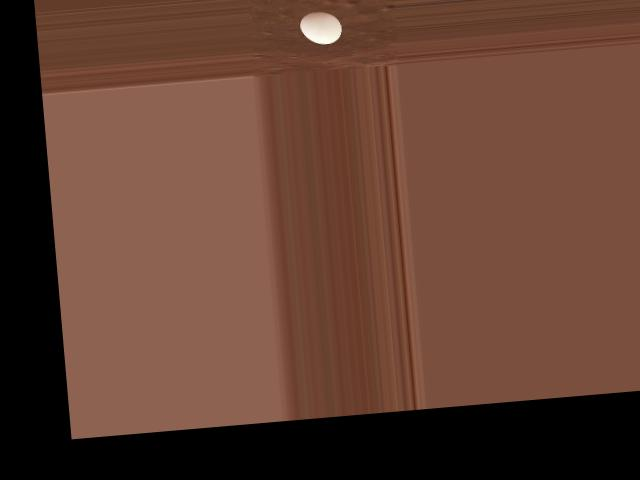egg: (298, 10, 342, 45)
